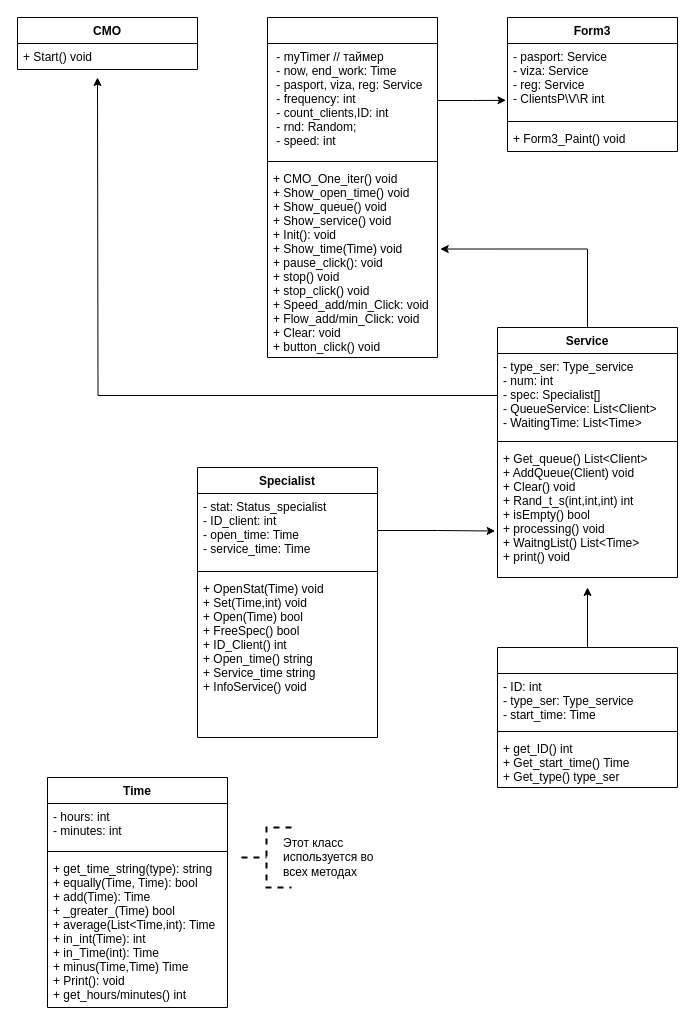
Some shapes in this 695 by 1028 pixel diagram are drawn without their labels. Here are the shapes that lost their labels. From the top down, the box of each, then its label:
(266, 16, 438, 358): Form
(496, 646, 678, 788): Client
